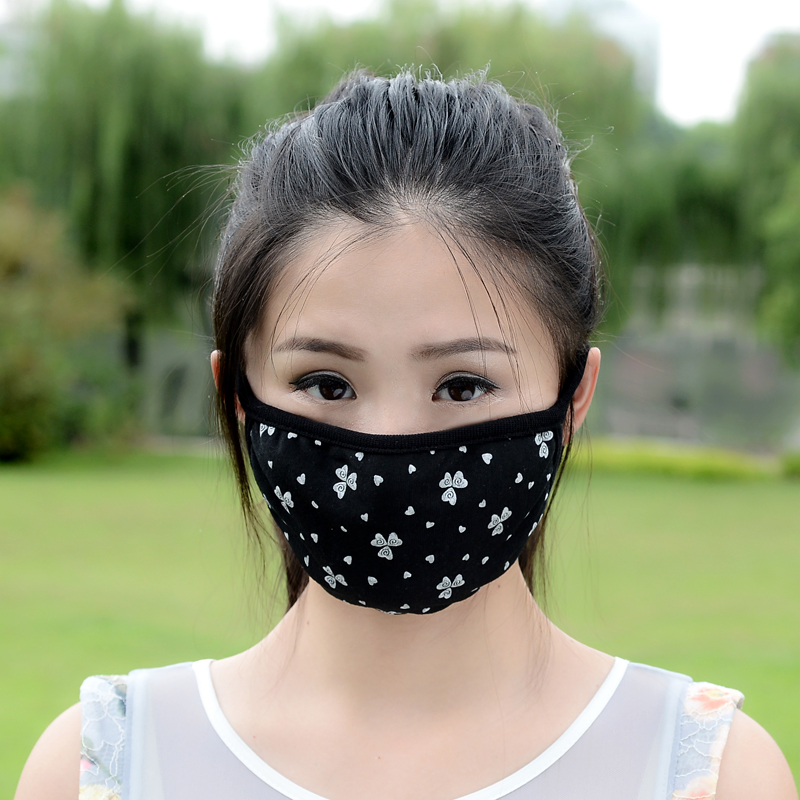face_mask: (250, 221, 555, 610)
